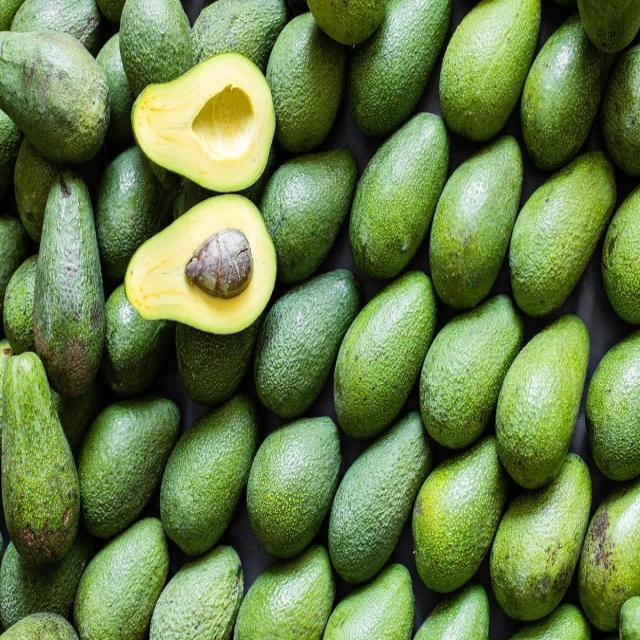aguacate: (122, 186, 287, 351), (128, 43, 286, 192)
